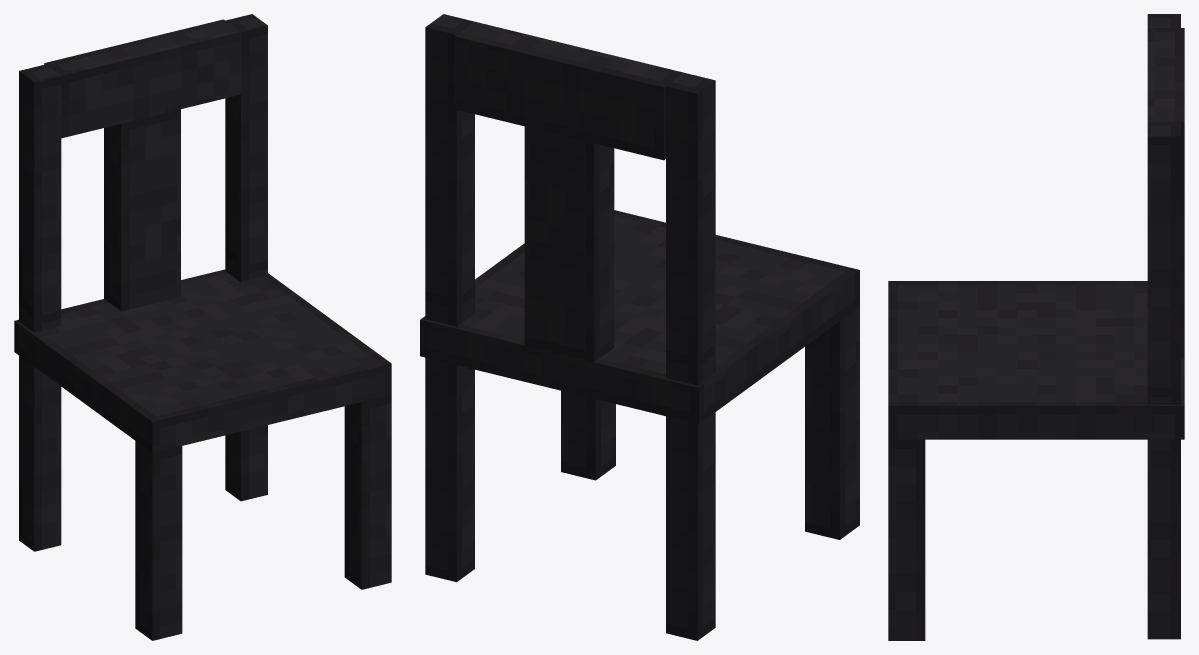
The model's file is woodenChairMansion_1.glb.
3 renders of one model, left to right at view 1: azimuth 30°, elevation 25°; view 2: azimuth 150°, elevation 25°; view 3: azimuth 270°, elevation 25°, orthographic. The views are drawn at different scales.
Parts seen in each view (by area): view 1: woodenChairMansion_1; view 2: woodenChairMansion_1; view 3: woodenChairMansion_1.
Part boxes in pixels (box(x1,y1,x2,y2)): woodenChairMansion_1: box(14, 14, 391, 640); woodenChairMansion_1: box(420, 14, 859, 640); woodenChairMansion_1: box(888, 14, 1184, 640).
Size of the model in its own units: 0.5 by 0.9375 by 0.5.
1 material, 1 textured.
